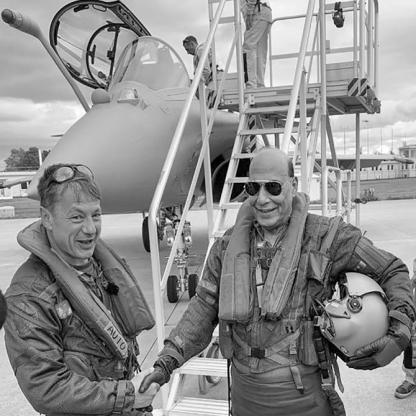Rafale: (2, 2, 416, 305)
